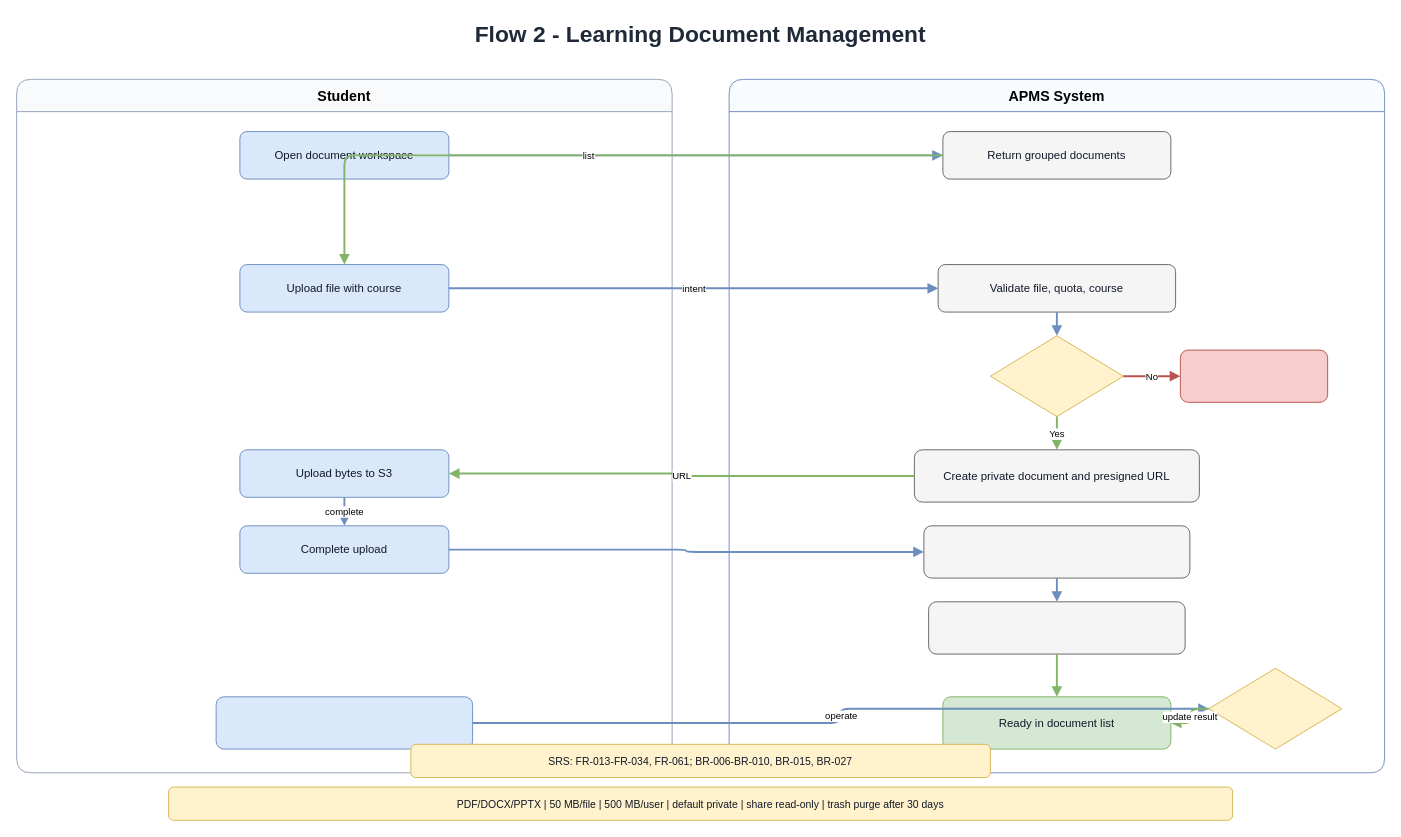
The diagram is 1401 pixels wide and 837 high, and some of its shapes have lost their labels. Here are the shapes that lost their labels. From the top down, the centre of each, then its label:
point 1056,376: Valid upload?
point 1253,375: Reject with reason
point 1056,551: Verify object and set processing
point 1056,627: Background extract, chunk, embed
point 344,722: Organize, share, visibility, trash
point 1275,708: Operation type?
